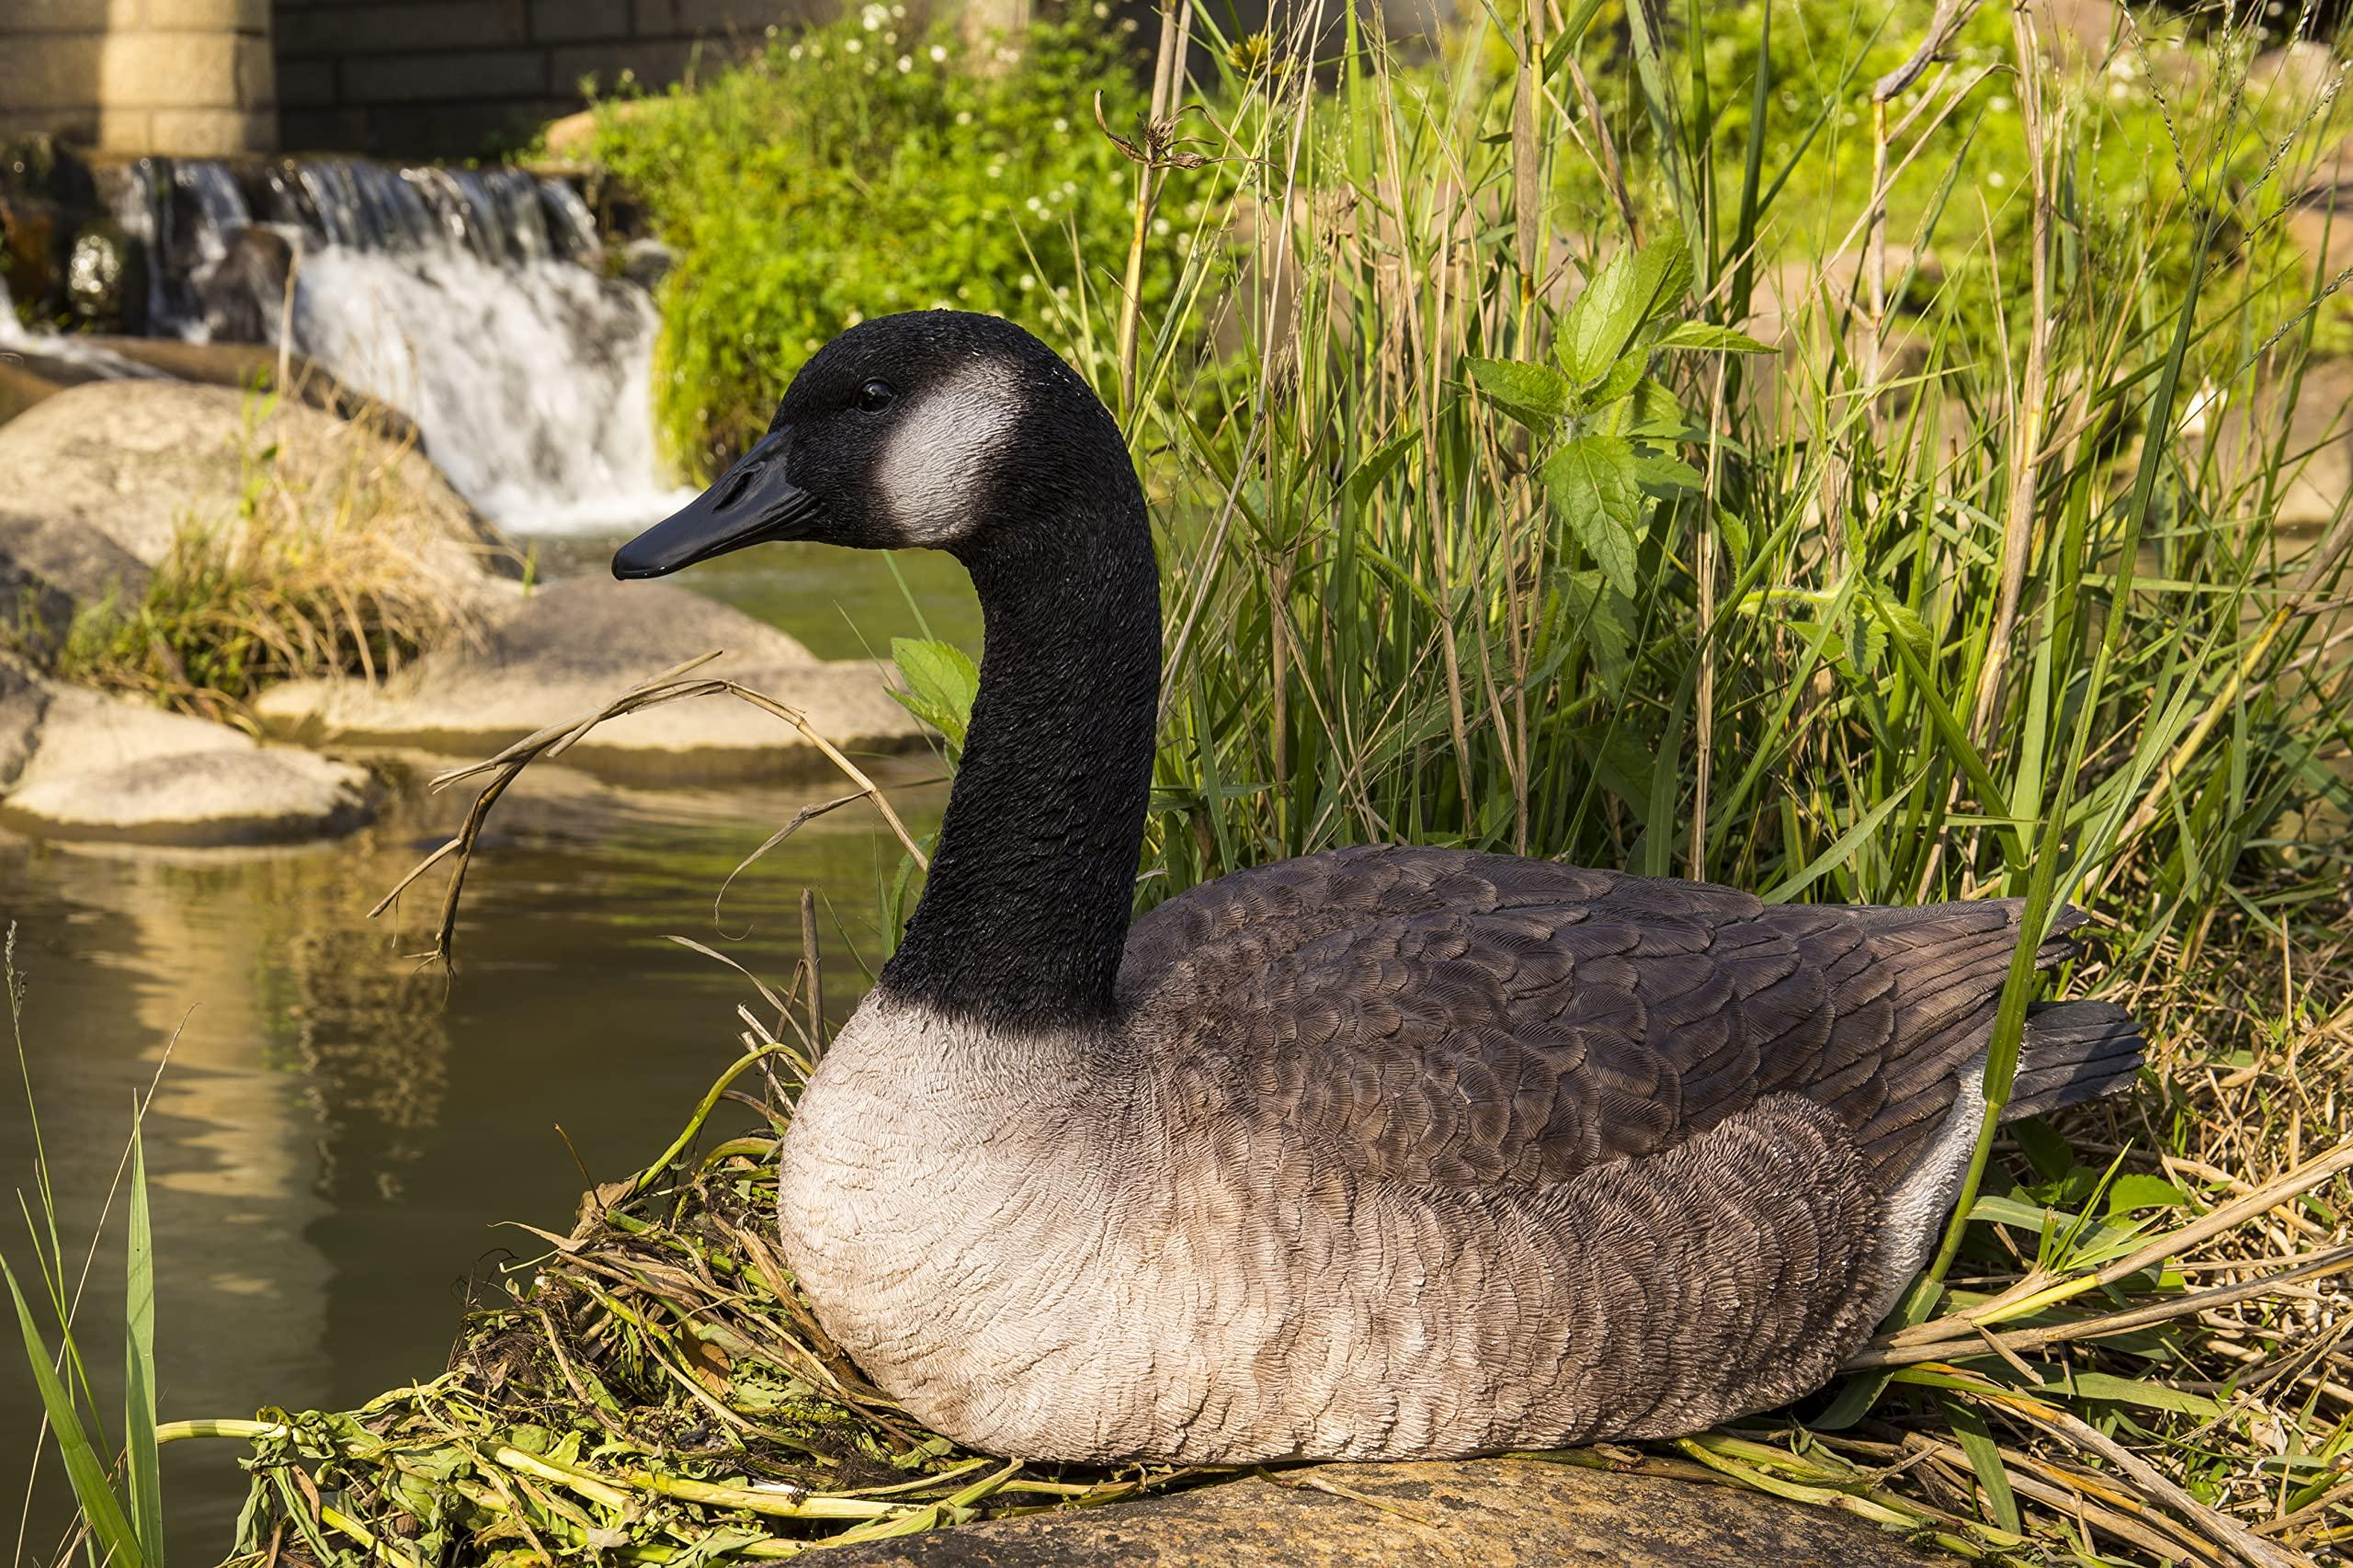Canadian-Goose: (604, 306, 2141, 1458)
